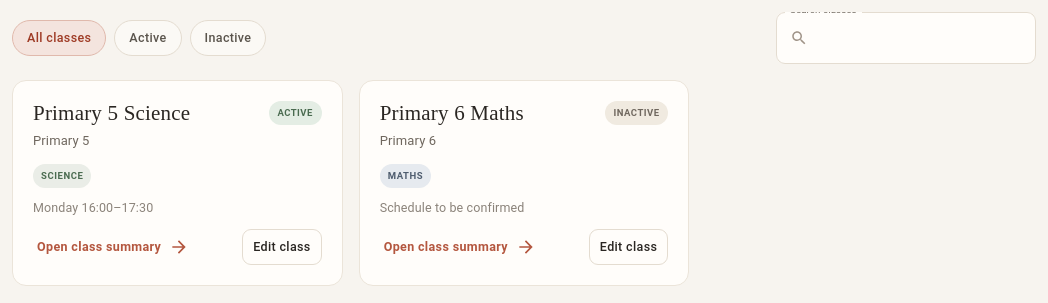
ClassList › filters by status and searches class name, subject, or level
The image size is (1048, 303).
Expected: the text "Primary 5 Science" is shown, left=33, top=101, right=190, bottom=126
Click the button "Active".
click(148, 38)  # box left=114, top=20, right=182, bottom=56
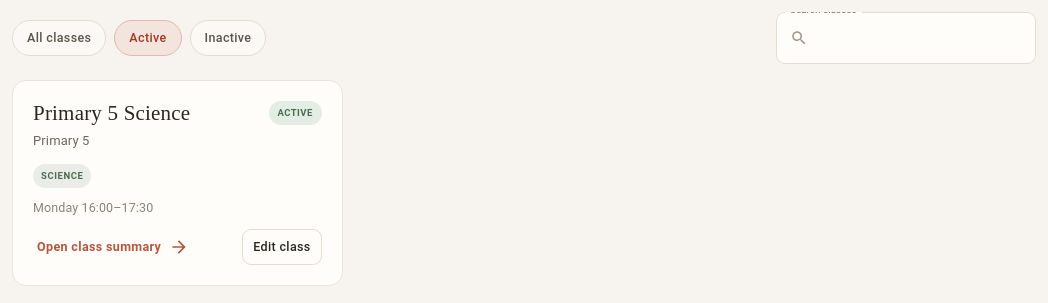
Expected: the text "Primary 5 Science" is shown, left=33, top=101, right=190, bottom=126
Now the text "Primary 6 Maths" is gone
Click the button "All classes".
click(59, 38)  # box left=12, top=20, right=106, bottom=56
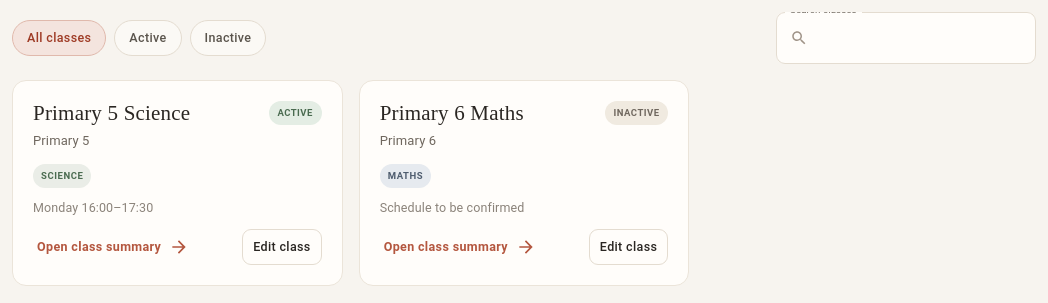
Type "maths" into the field labelled "Search classes".
click(926, 38); type("maths")  # box left=816, top=12, right=1036, bottom=64
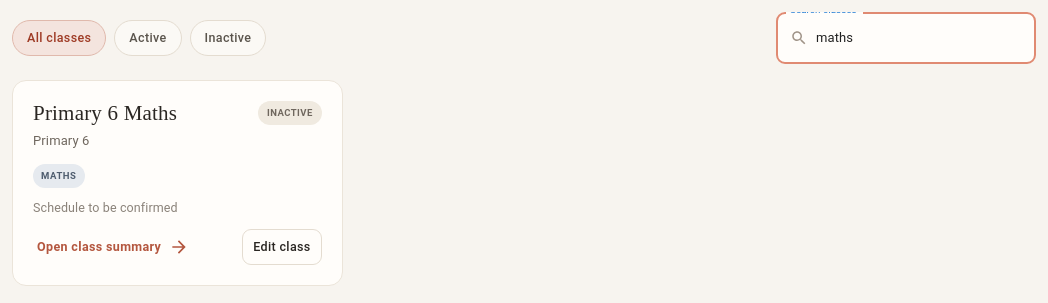
Now the text "Primary 6 Maths" is shown, box left=33, top=101, right=177, bottom=126
Now the text "Primary 5 Science" is gone
